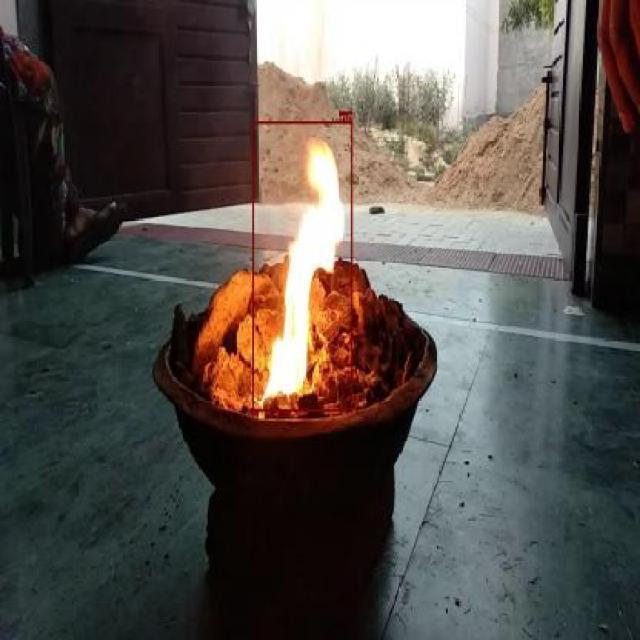Fire: (253, 120, 353, 412)
